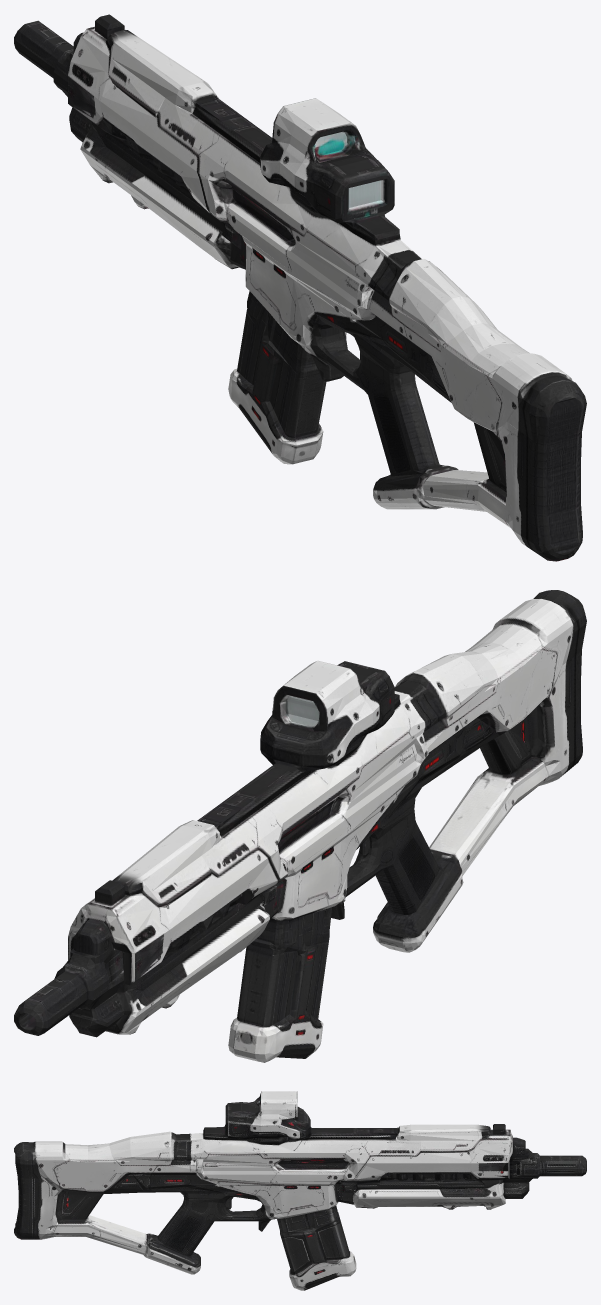
Rendered from weapon_vanguard.glb.
The picture shows the model from 3 angles, top to bottom: view 1: azimuth 30°, elevation 25°; view 2: azimuth 150°, elevation 25°; view 3: azimuth 270°, elevation 25°; orthographic projection. The views are drawn at different scales.
Parts seen in each view (by area): view 1: Mesh_0; view 2: Mesh_0; view 3: Mesh_0.
Boxes of the visible parts, x1,y1,x2,y2 form: Mesh_0: [14, 14, 586, 561]; Mesh_0: [14, 590, 586, 1062]; Mesh_0: [14, 1091, 586, 1290].
Size of the model in its own units: 0.0758 by 0.3326 by 0.9.
1 material, 1 textured.
